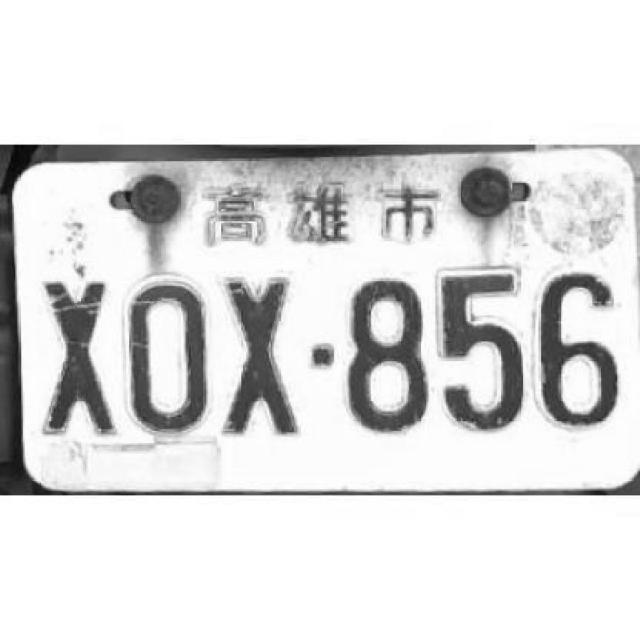-: (310, 343, 336, 369)
0: (121, 276, 212, 438)
5: (437, 268, 525, 435)
6: (534, 268, 621, 432)
8: (348, 277, 429, 437)
X: (217, 276, 300, 438), (38, 281, 117, 437)
